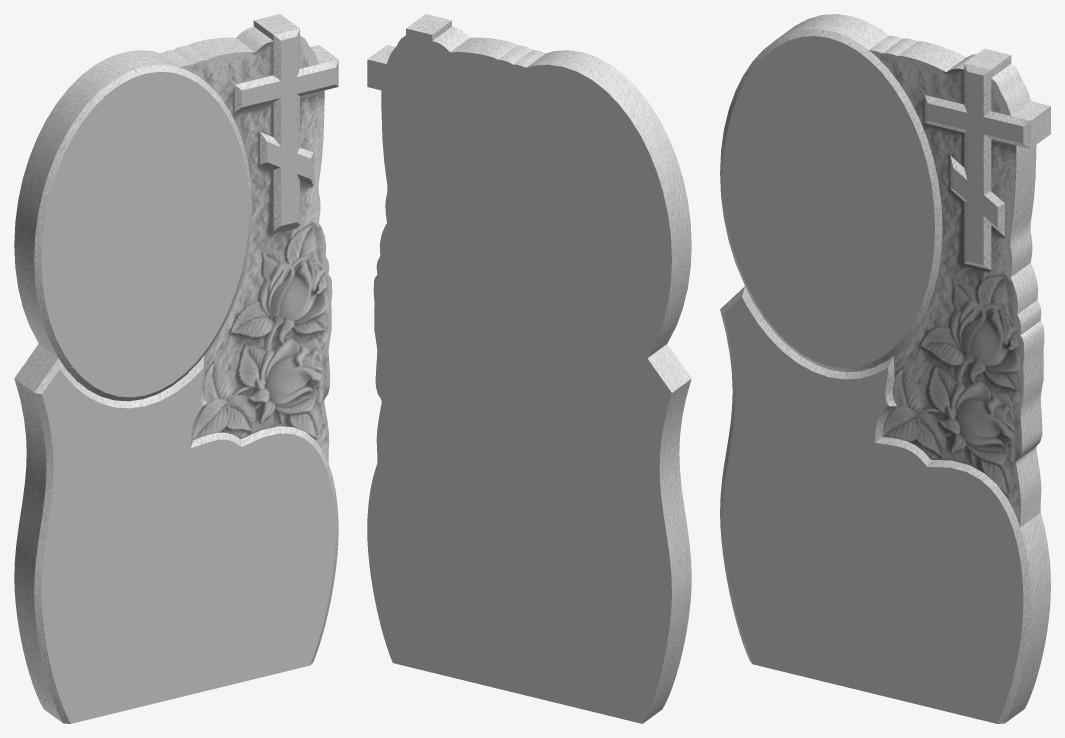
Rendered from cn414e66ef50_tkf.glb.
3 views of the same model, side by side, from view 1: azimuth 30°, elevation 25°; view 2: azimuth 150°, elevation 25°; view 3: azimuth 330°, elevation 25° (orthographic). The views are drawn at different scales.
Parts seen in each view (by area): view 1: Pam-d03-047, Pam-d03-047_2_notexture; view 2: Pam-d03-047, Pam-d03-047_2_notexture; view 3: Pam-d03-047, Pam-d03-047_2_notexture.
Part boxes in pixels (x1,y1,x2,y2): Pam-d03-047: (41,36,335,723); Pam-d03-047_2_notexture: (14,14,338,723); Pam-d03-047: (367,28,671,723); Pam-d03-047_2_notexture: (367,14,691,723); Pam-d03-047: (723,36,1023,723); Pam-d03-047_2_notexture: (720,14,1050,723).
Bounding box in the file's own units: 0.4 × 0.8 × 0.05.
Materials: 1 (1 with a texture image).
